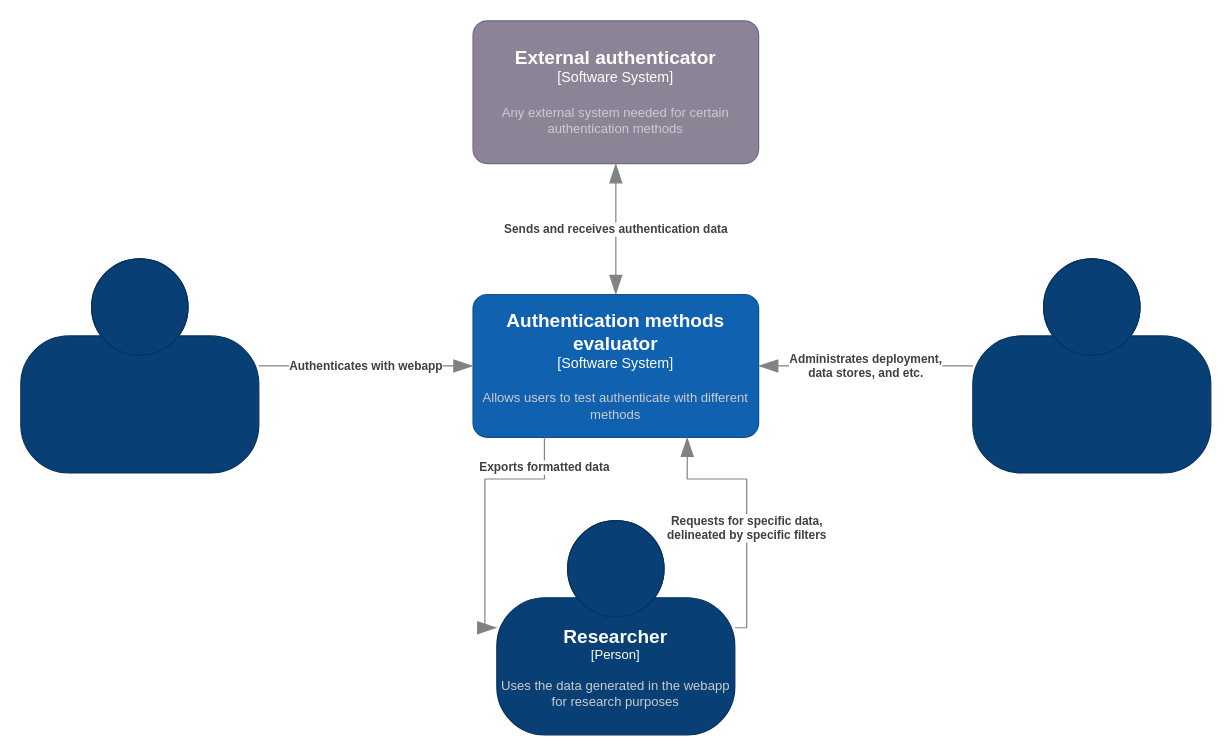
Some shapes in this 1232 by 756 pixel diagram are drawn without their labels. The shapes that lost their labels are listed below. From the top down, each one's centre as x and y in pixels, then its label:
point 139,365: User [Person] User of the webapp
point 1091,365: Administrator [Person] Deployer of the webapp
